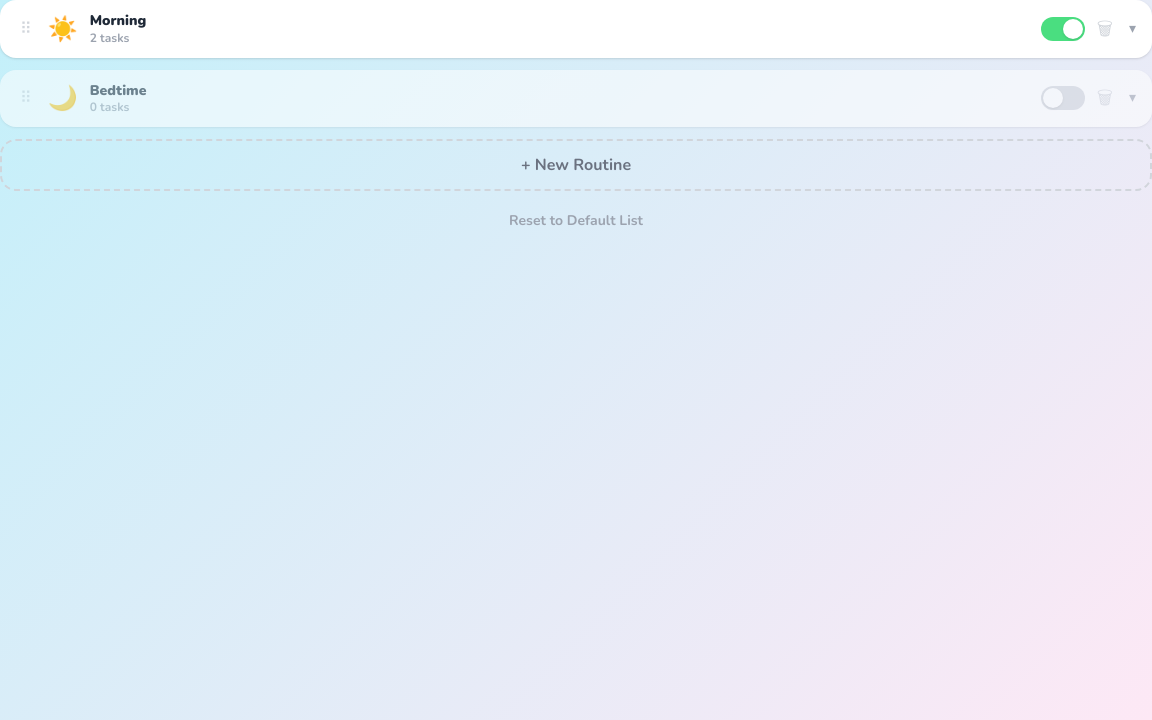
RoutinesPanel — delete section › removes the section when "Delete" is confirmed
Step 1. Click the button "🗑" in the row of "Morning" → (1105, 29), box [1093,15,1117,43]
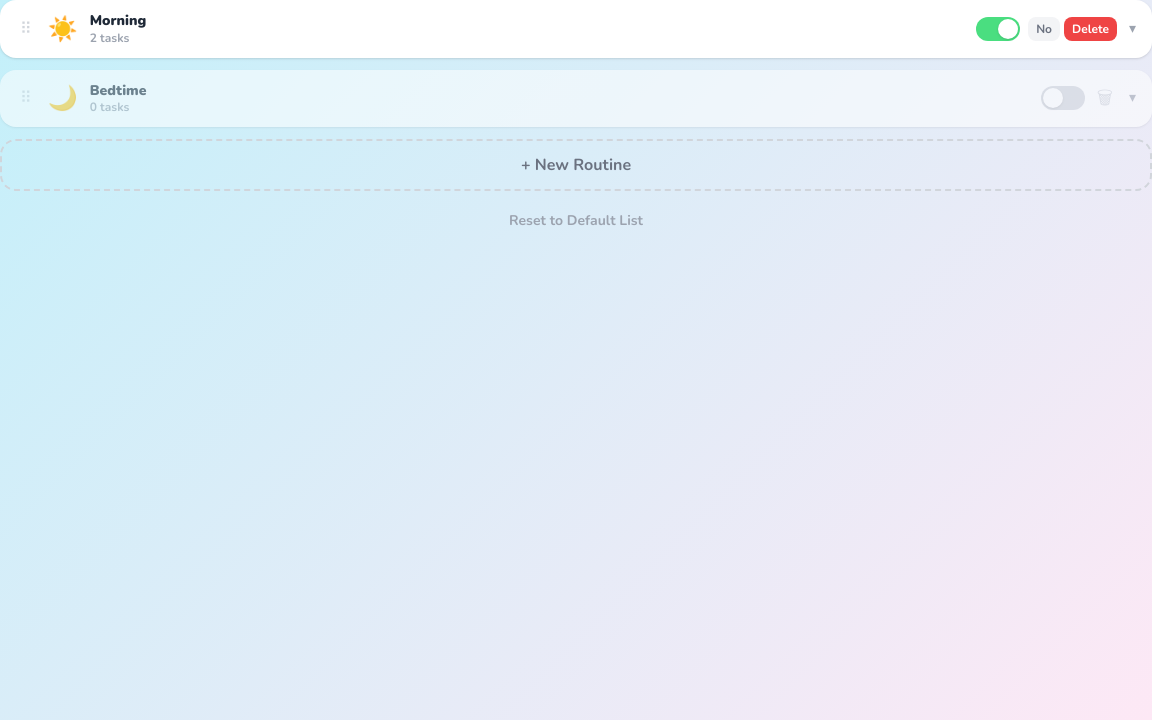
Step 2. Click the button "Delete" → (1090, 29), box [1064,17,1117,41]
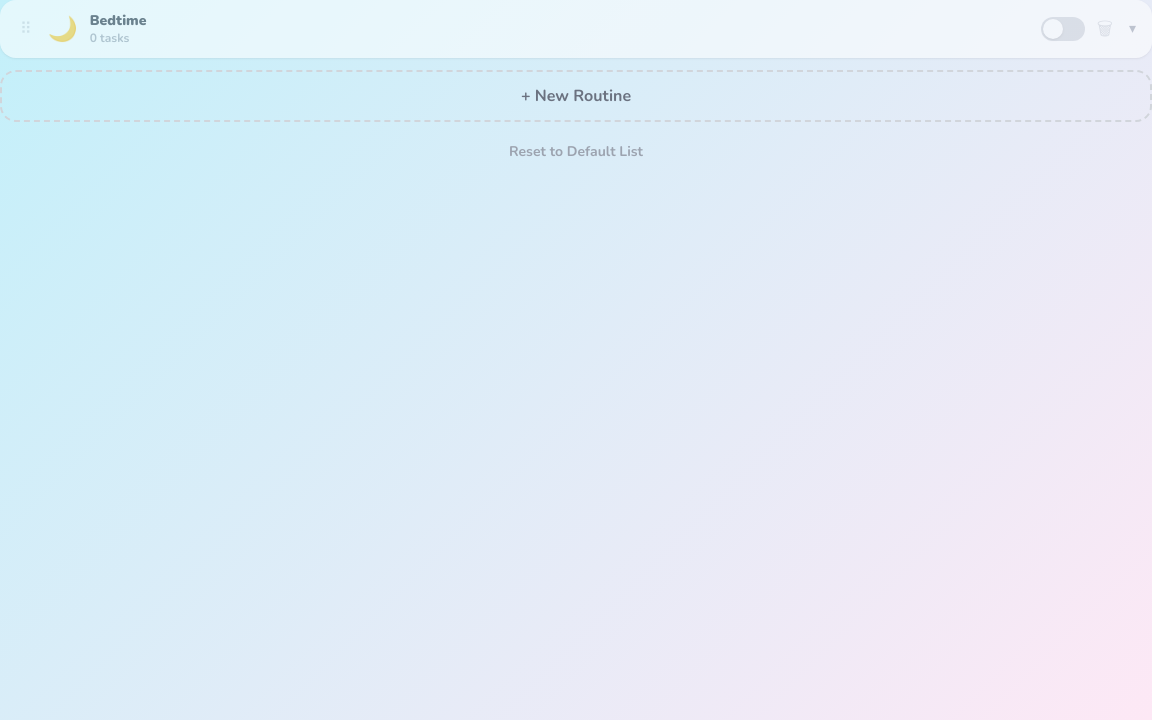
Expected: the text "Bedtime" is shown, [90,11,147,30]
Expected: the text "Morning" is gone
